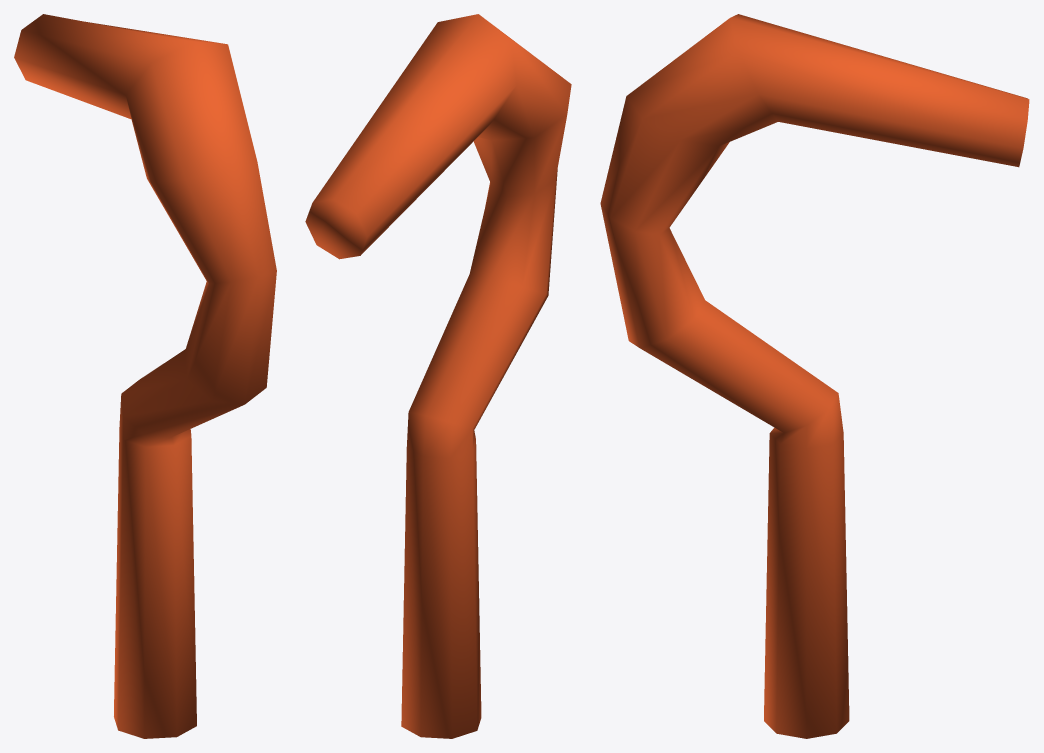
File: Sickle_Colider.fbx
3 views of the same model, side by side, from view 1: azimuth 30°, elevation 25°; view 2: azimuth 150°, elevation 25°; view 3: azimuth 270°, elevation 25° (orthographic). The views are drawn at different scales.
Parts seen in each view (by area): view 1: SickleCollider; view 2: SickleCollider; view 3: SickleCollider.
Part boxes in pixels (<box>): SickleCollider: <box>14,14,276,738</box>; SickleCollider: <box>305,14,571,738</box>; SickleCollider: <box>600,14,1029,738</box>.
Size of the model in its own units: 27.04 by 8.79 by 49.4.
